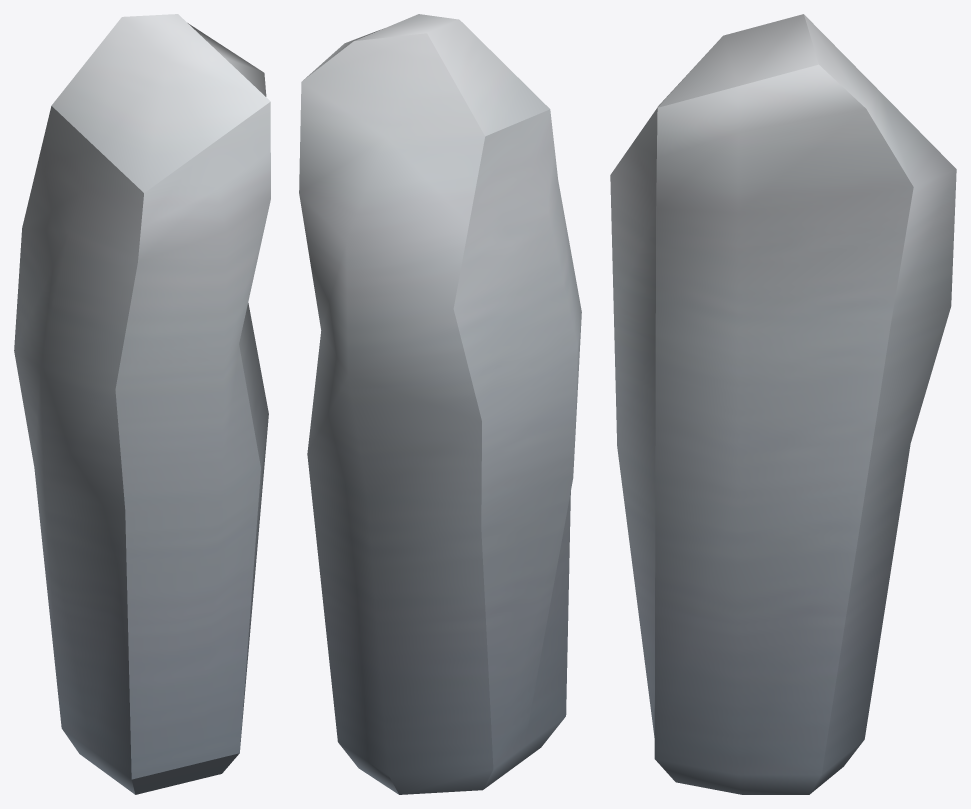
The model's file is StoneSlab2.fbx.
The picture shows the model from 3 angles, left to right: view 1: azimuth 30°, elevation 25°; view 2: azimuth 150°, elevation 25°; view 3: azimuth 270°, elevation 25°; orthographic projection. The views are drawn at different scales.
Parts seen in each view (by area): view 1: pCube14; view 2: pCube14; view 3: pCube14.
Part boxes in pixels (<box>): pCube14: <box>14,14,270,794</box>; pCube14: <box>299,14,581,794</box>; pCube14: <box>610,14,956,794</box>.
Bounding box in the file's own units: 2.34 × 7.13 × 2.95.
